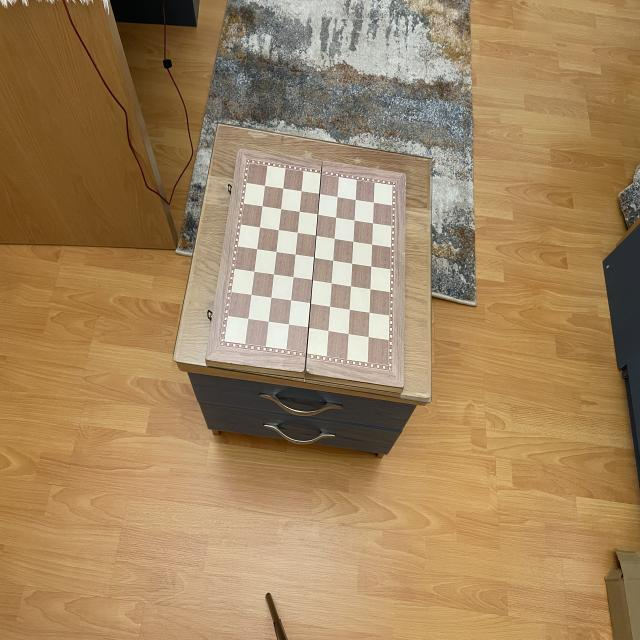corners: (198, 350, 218, 367), (395, 374, 412, 393), (398, 165, 414, 184), (232, 143, 248, 158)
